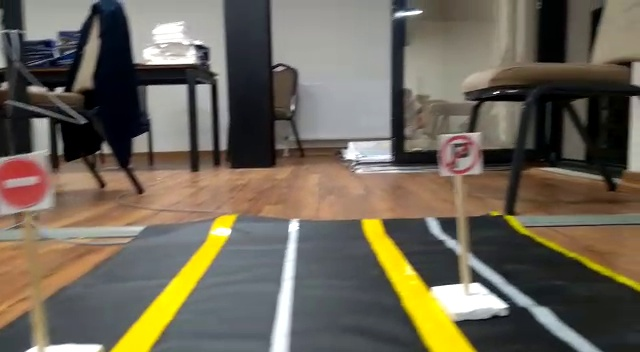girisi_olmayan_yol: (2, 159, 48, 208)
park_yapilmaz: (437, 134, 481, 173)
